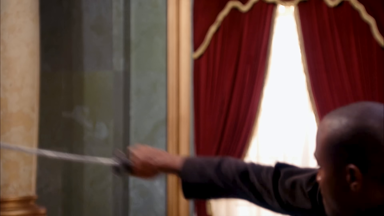bladed_weapon: (1, 136, 134, 180)
